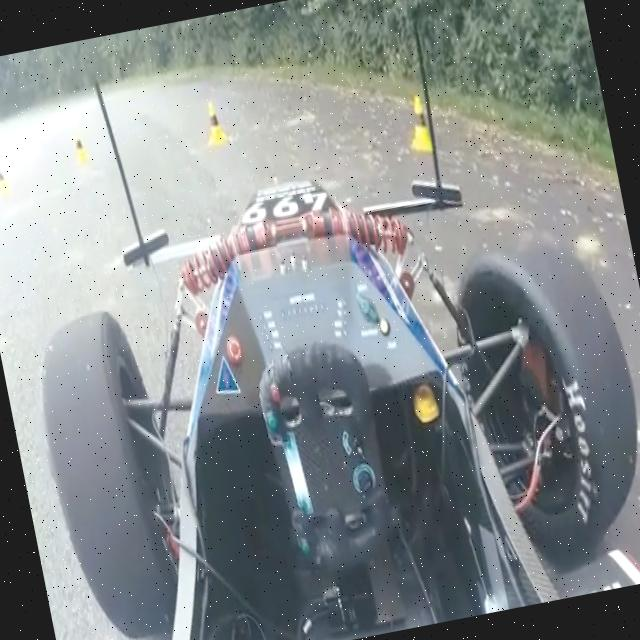yellow_cone: (395, 75, 447, 171), (192, 89, 234, 150), (67, 112, 91, 148), (0, 155, 13, 190)
